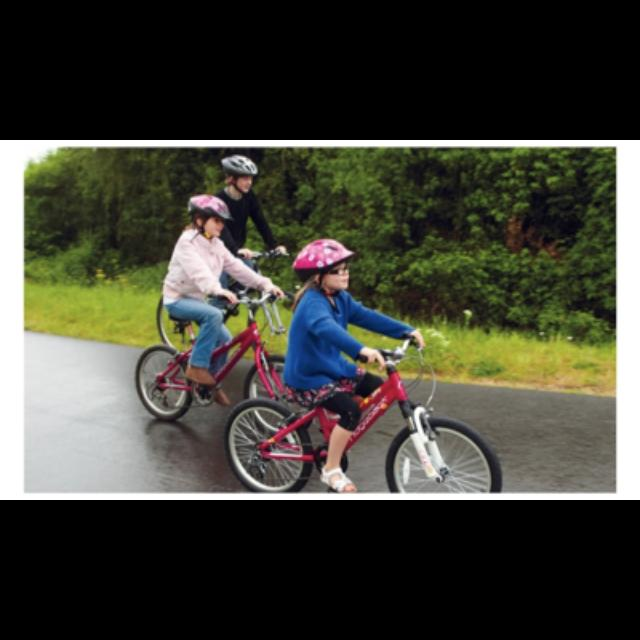With Helmet: (289, 236, 356, 292), (181, 188, 229, 238), (214, 150, 260, 200)
